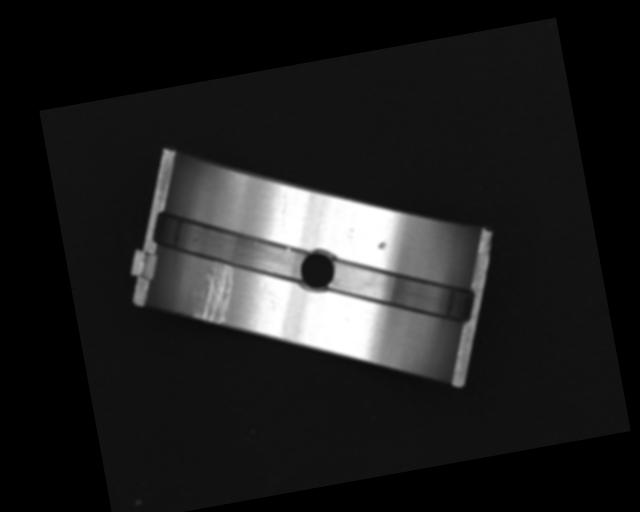bruise: (377, 239, 388, 251)
gap: (152, 188, 310, 302), (326, 242, 476, 343)
hole: (296, 247, 338, 293)
nick: (275, 188, 292, 226)
scratch: (186, 259, 242, 328)
